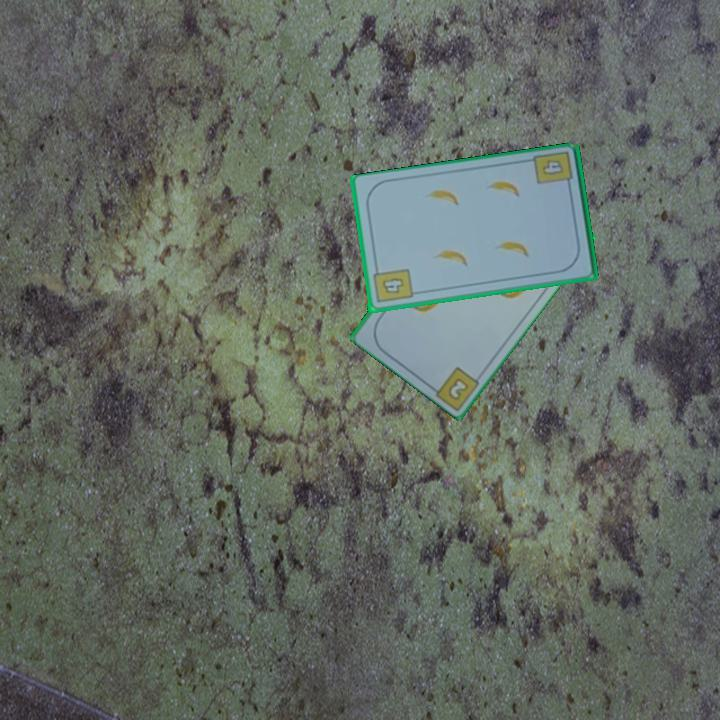2b: (444, 374, 472, 403)
4b: (530, 148, 576, 193), (369, 263, 415, 306)
